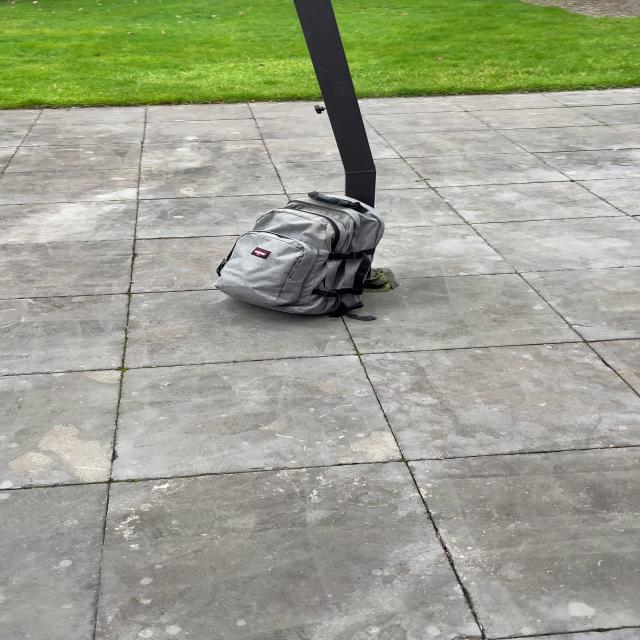backpack: (207, 188, 392, 319)
